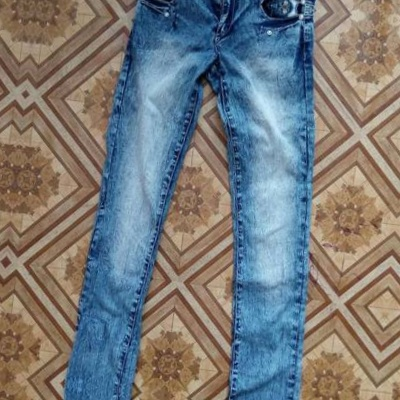Pants: (51, 0, 359, 400), (5, 385, 313, 400), (98, 0, 400, 10)
